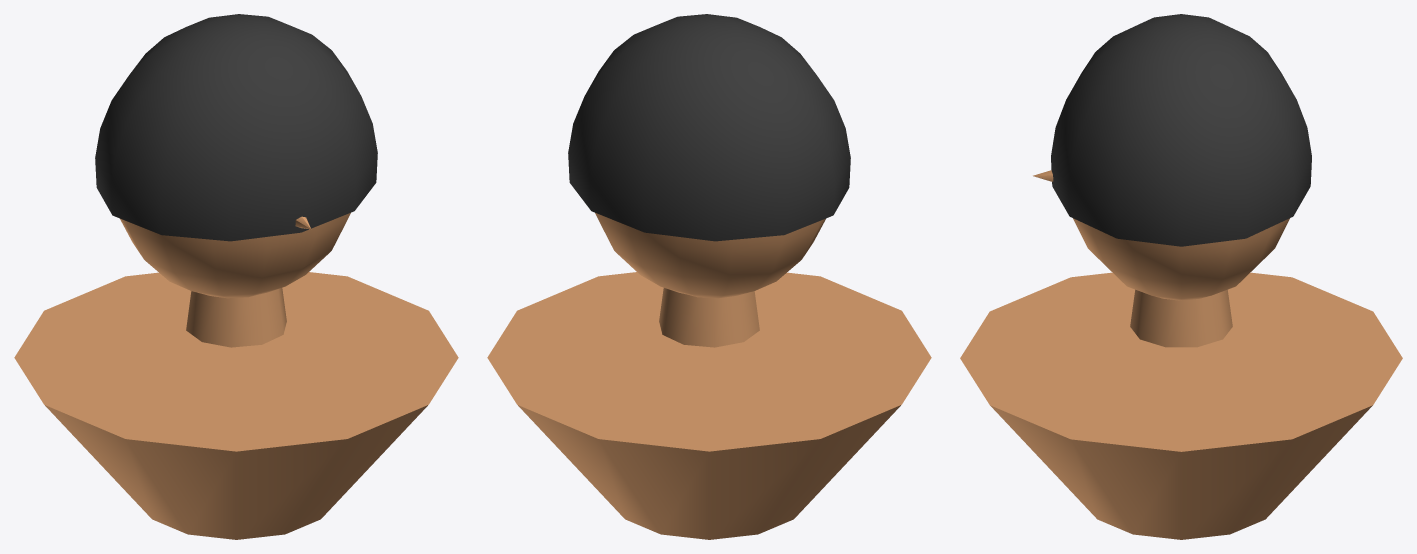
Rendered from portrait02t_002.glb.
3 renders of one model, left to right at view 1: azimuth 30°, elevation 25°; view 2: azimuth 150°, elevation 25°; view 3: azimuth 270°, elevation 25°, orthographic.
Bounding box in the file's own units: 1.81 × 2.13 × 1.81.
